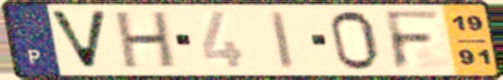0: (327, 9, 383, 72)
4: (199, 9, 247, 71)
F: (381, 9, 445, 72)
H: (114, 9, 178, 71)
I: (268, 9, 297, 71)
V: (45, 8, 111, 72)
